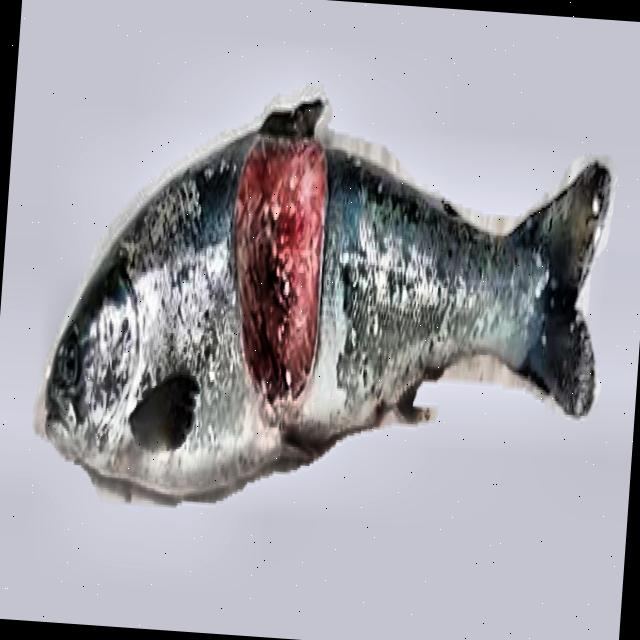mild_red: (105, 135, 547, 497)
wound: (232, 139, 326, 404)
